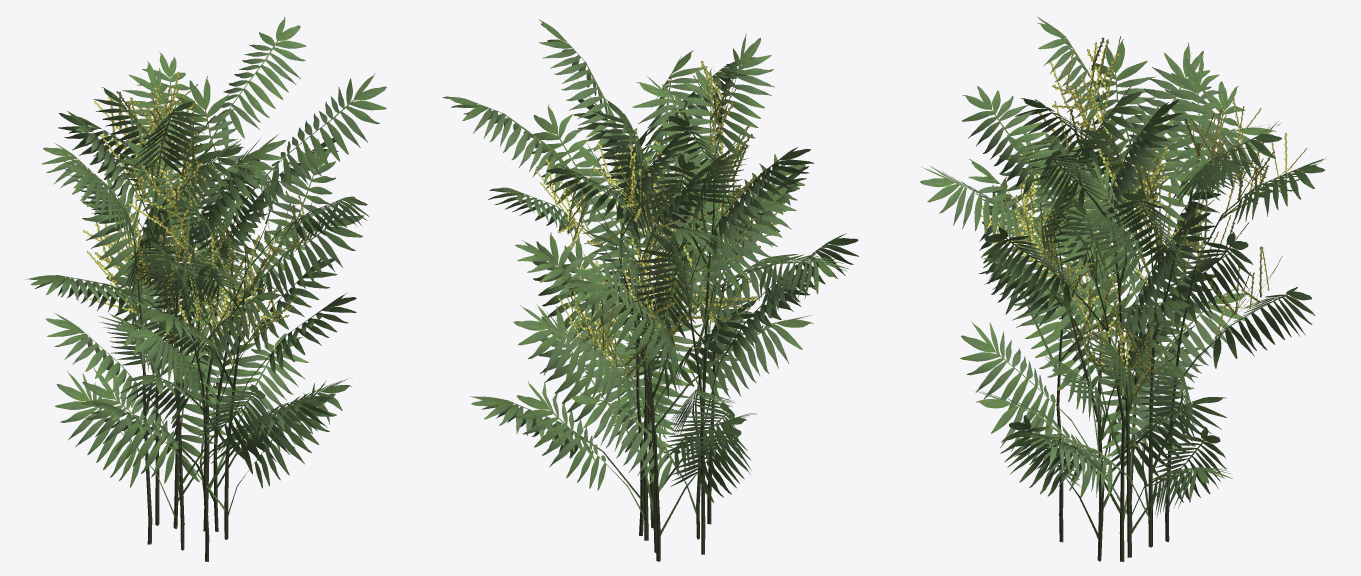
The model's file is Chamaedorea_Elegans_Spring_Adult.glb.
The picture shows the model from 3 angles, left to right: view 1: azimuth 30°, elevation 25°; view 2: azimuth 150°, elevation 25°; view 3: azimuth 270°, elevation 25°; orthographic projection. The views are drawn at different scales.
Visible parts, largest first — view 1: Chamaedorea_Elegans_Spring_Adult__LOD3; view 2: Chamaedorea_Elegans_Spring_Adult__LOD3; view 3: Chamaedorea_Elegans_Spring_Adult__LOD3.
Part boxes in pixels (x1,y1,x2,y2): Chamaedorea_Elegans_Spring_Adult__LOD3: [26, 17, 386, 561]; Chamaedorea_Elegans_Spring_Adult__LOD3: [443, 19, 858, 561]; Chamaedorea_Elegans_Spring_Adult__LOD3: [920, 17, 1326, 561].
Size of the model in its own units: 2.46 by 3.18 by 2.47.
3 materials, 3 textured.
